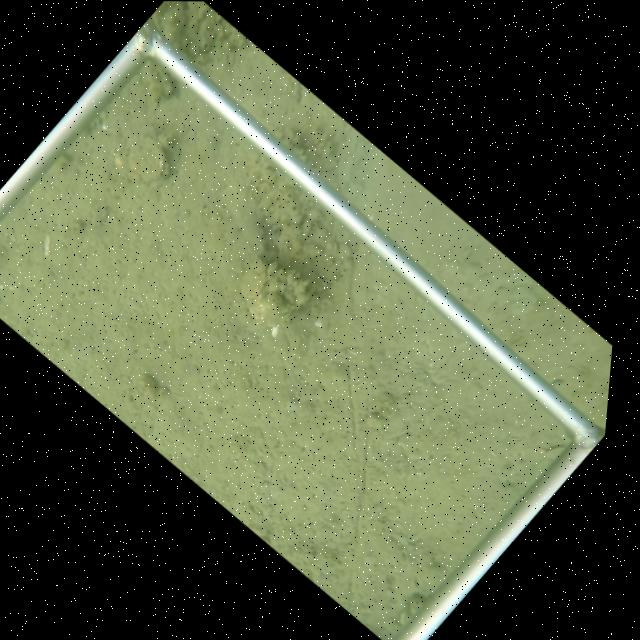Oyster-Closed: (112, 132, 176, 186)
Oyster-Indeterminate: (235, 252, 291, 333)
